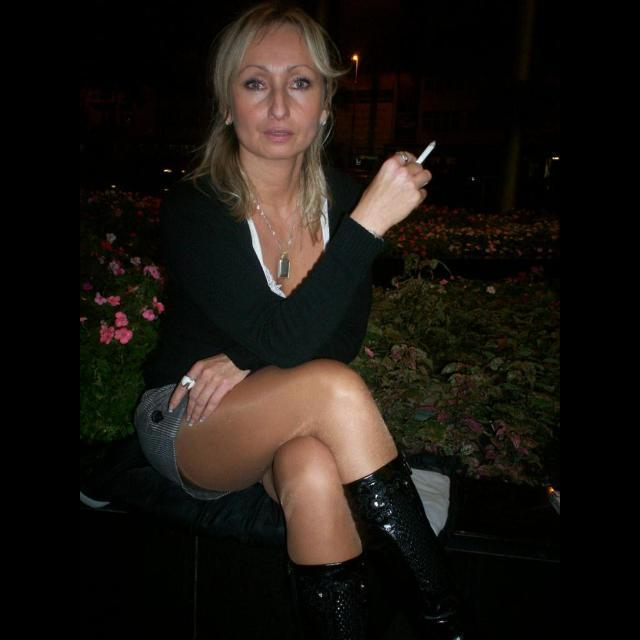rokok: (412, 138, 438, 168)
